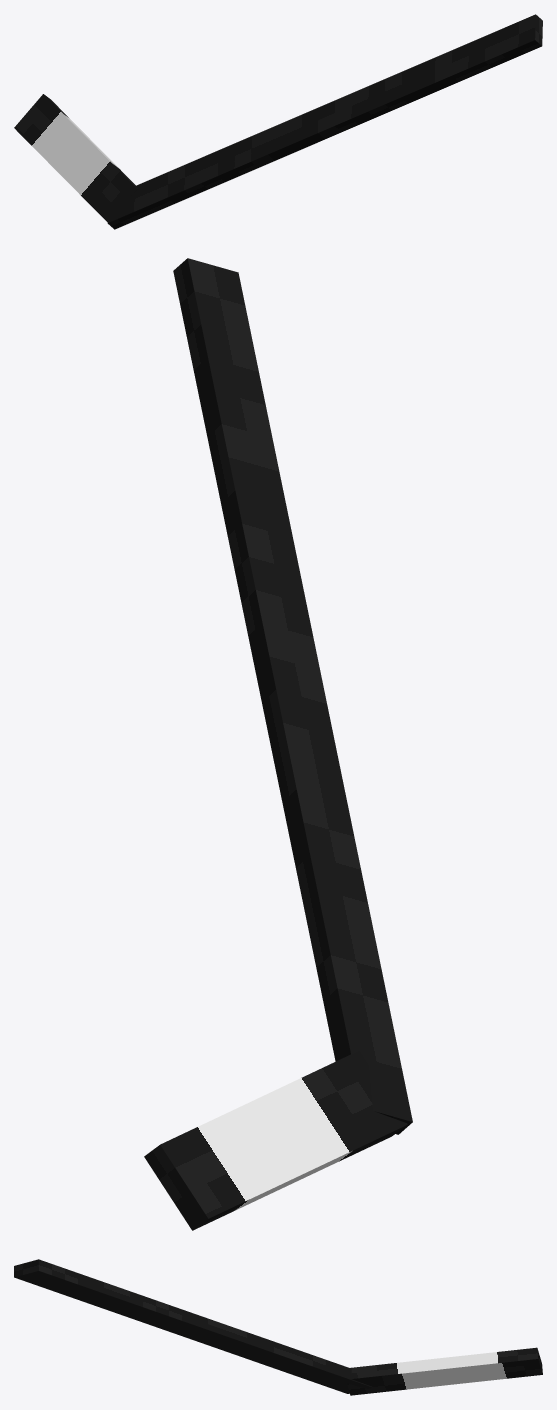
File: hockey-stick-controlled-left.gltf
3 renders of one model, top to bottom at view 1: azimuth 30°, elevation 25°; view 2: azimuth 150°, elevation 25°; view 3: azimuth 270°, elevation 25°, orthographic. The views are drawn at different scales.
Parts seen in each view (by area): view 1: geo_shaft_geom_0, geo_blade_geom_0; view 2: geo_shaft_geom_0, geo_blade_geom_0; view 3: geo_shaft_geom_0, geo_blade_geom_0.
Boxes of the visible parts, x1,y1,x2,y2 form: geo_shaft_geom_0: [107, 14, 542, 229]; geo_blade_geom_0: [14, 94, 137, 221]; geo_shaft_geom_0: [173, 258, 412, 1134]; geo_blade_geom_0: [144, 1050, 407, 1230]; geo_shaft_geom_0: [14, 1259, 372, 1393]; geo_blade_geom_0: [347, 1347, 542, 1395].
Size of the model in its own units: 0.7171 by 0.655 by 1.2.
Materials: 2 (2 with a texture image).
